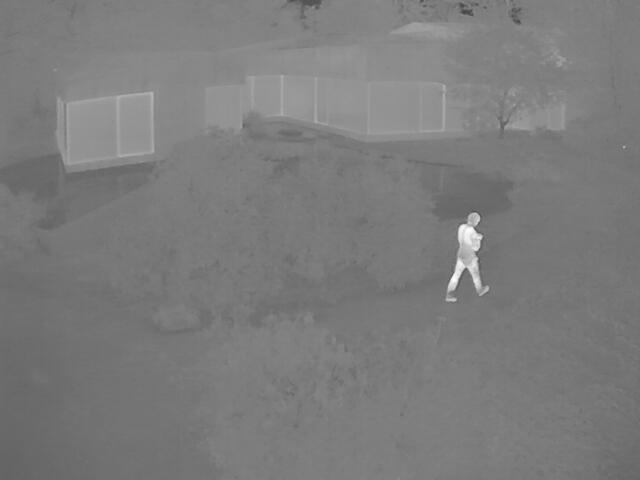person: (443, 212, 488, 307)
